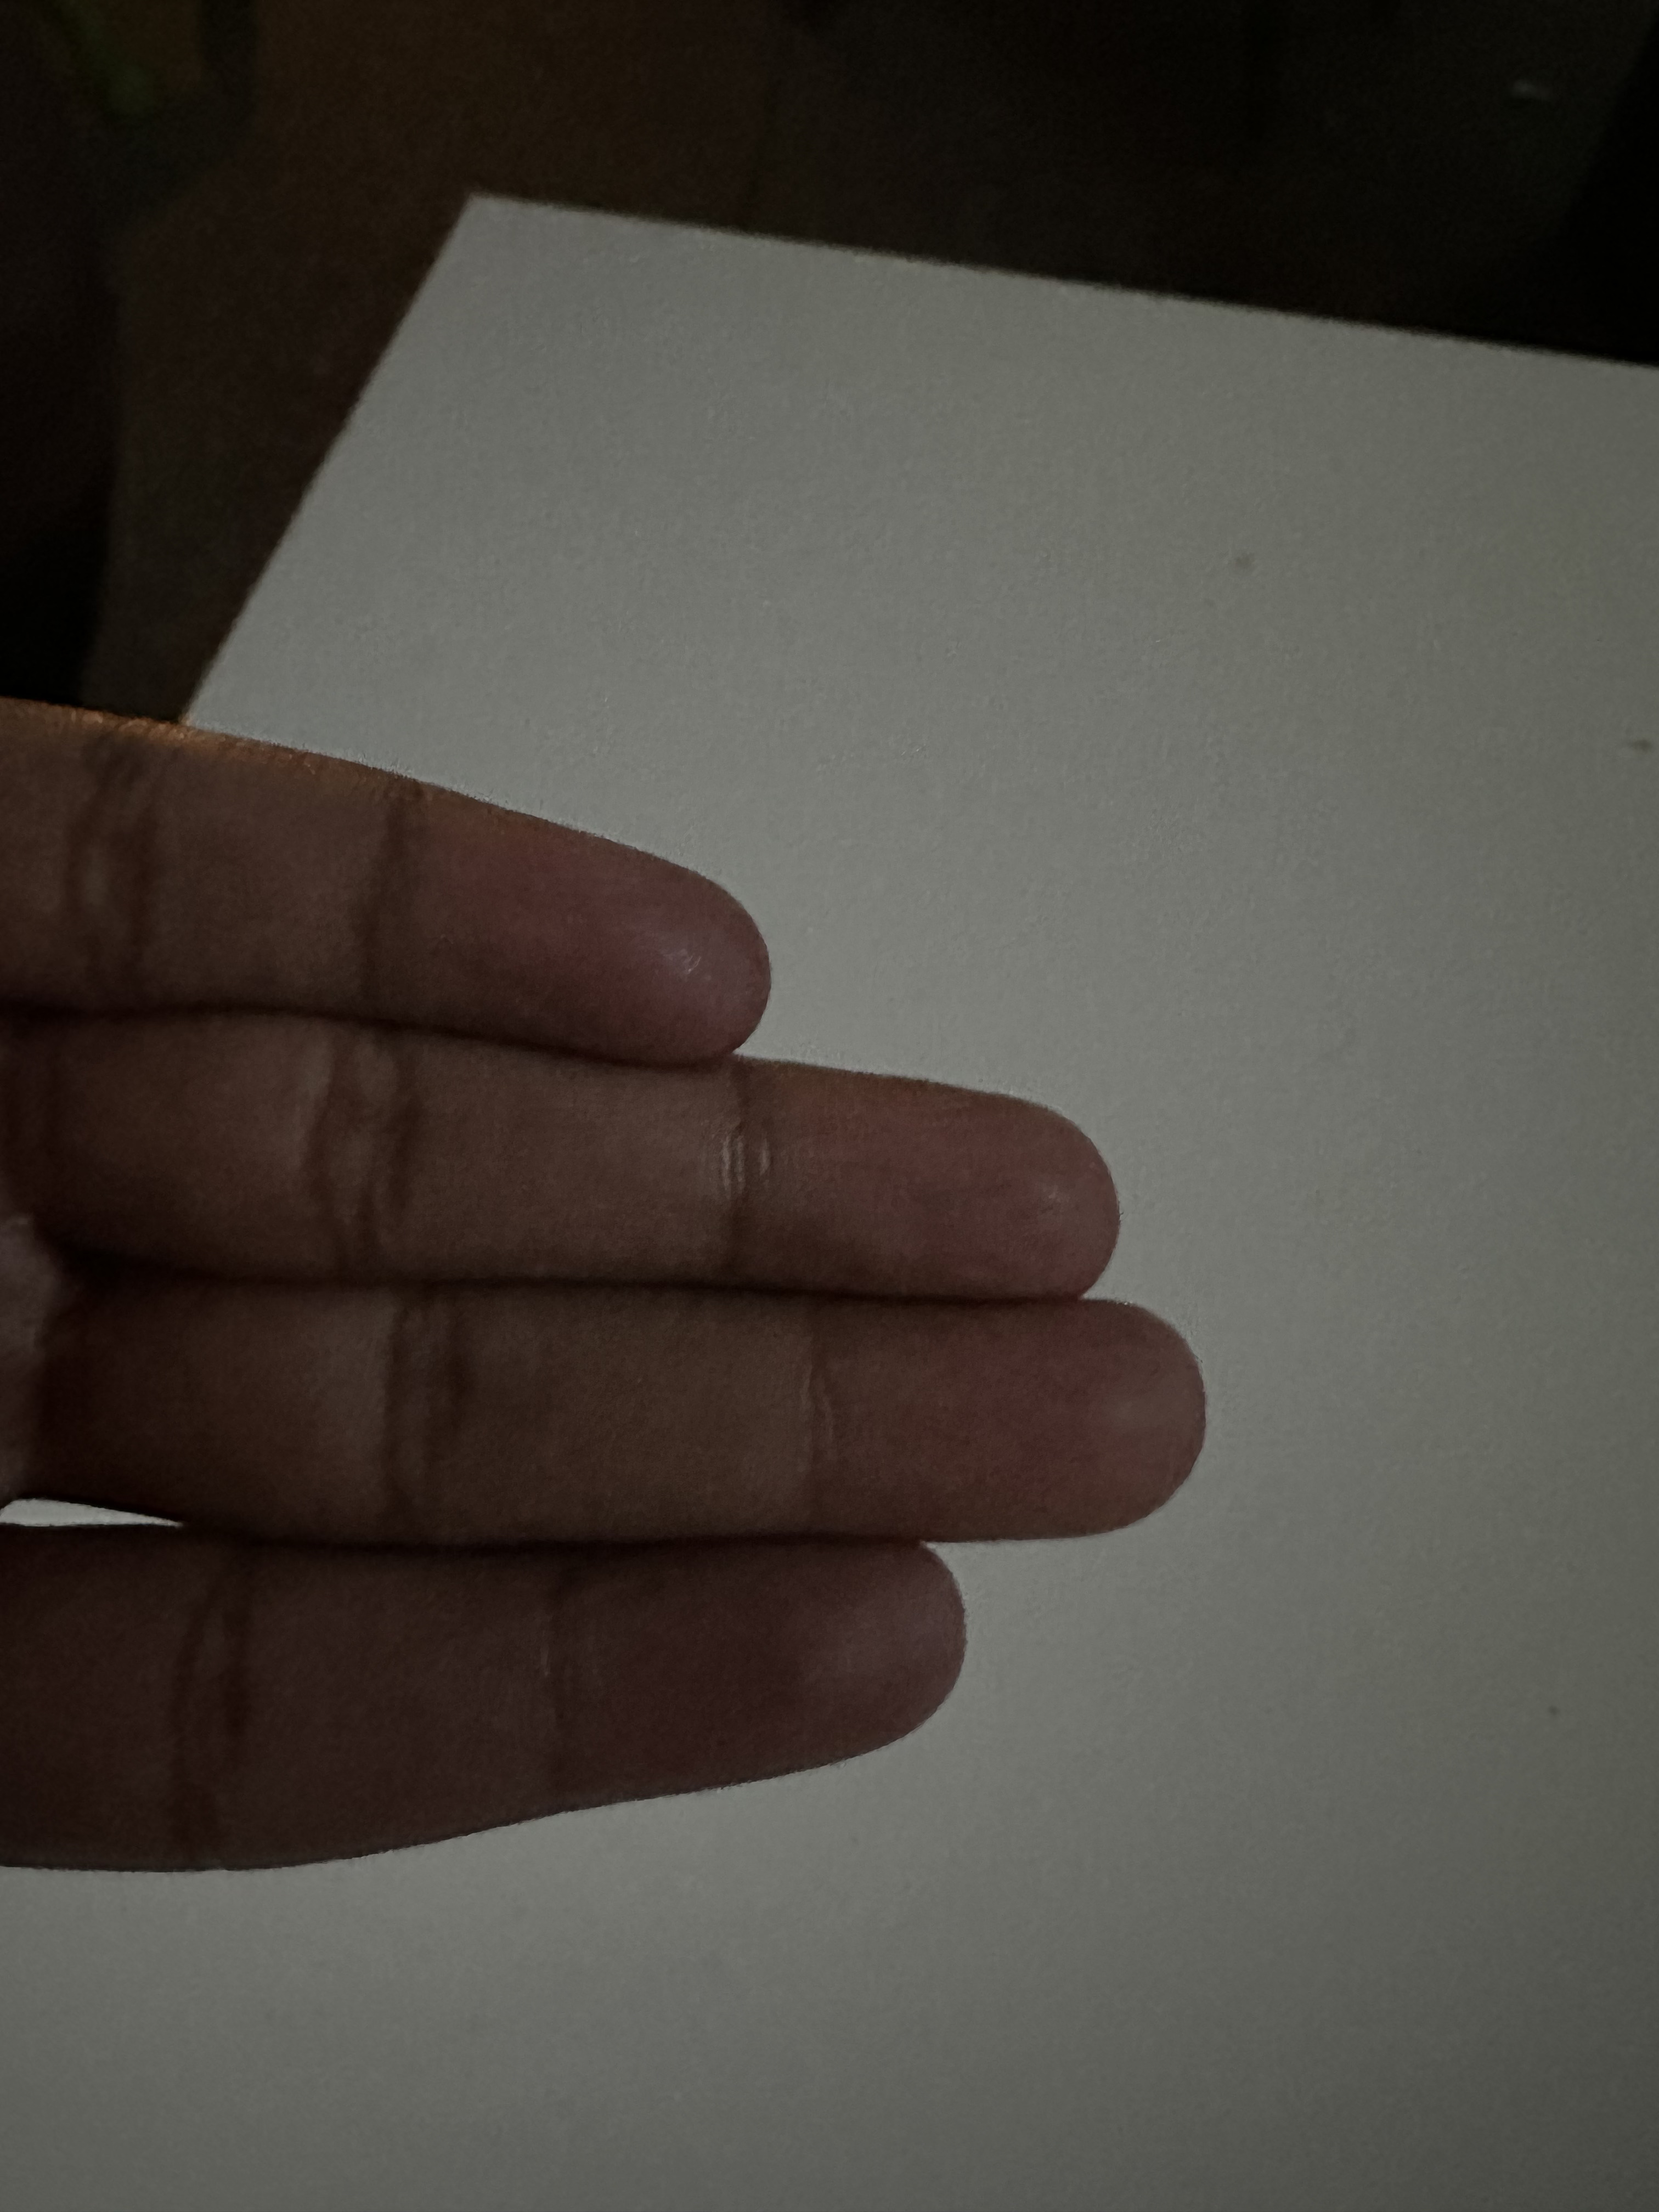finger: (538, 1541, 988, 1794), (800, 1303, 1241, 1540), (382, 810, 788, 1062), (744, 1062, 1159, 1298)
